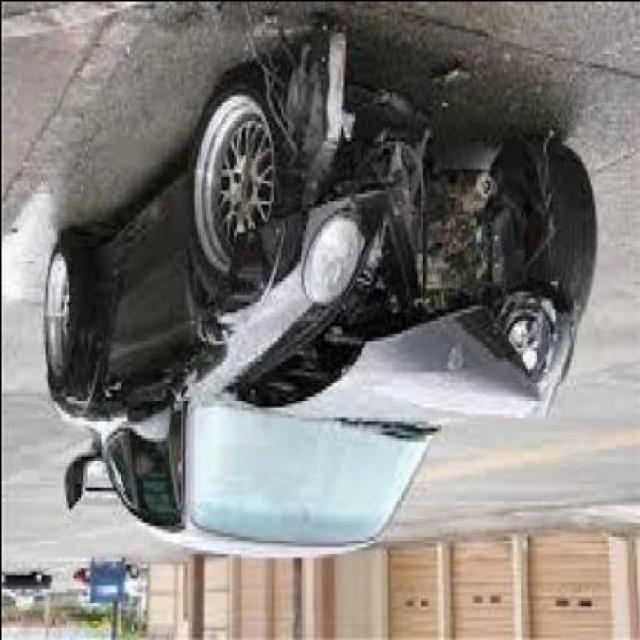damage: (220, 27, 580, 416)
